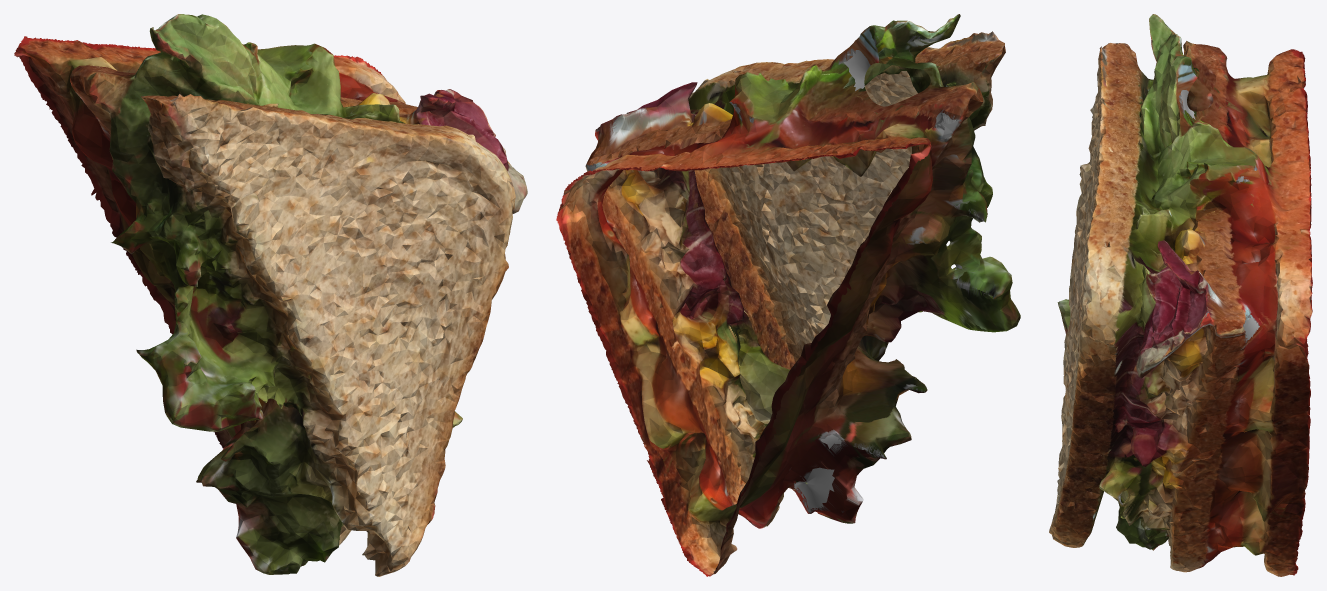
The model's file is sandwich_low.fbx.
The picture shows the model from 3 angles, left to right: view 1: azimuth 30°, elevation 25°; view 2: azimuth 150°, elevation 25°; view 3: azimuth 270°, elevation 25°; orthographic projection. The views are drawn at different scales.
Visible parts, largest first — view 1: mesh:Mesh; view 2: mesh:Mesh; view 3: mesh:Mesh.
Part boxes in pixels (<box>): mesh:Mesh: <box>14,14,527,576</box>; mesh:Mesh: <box>556,14,1020,576</box>; mesh:Mesh: <box>1049,14,1312,576</box>.
Size of the model in its own units: 22.81 by 30.21 by 14.81.
